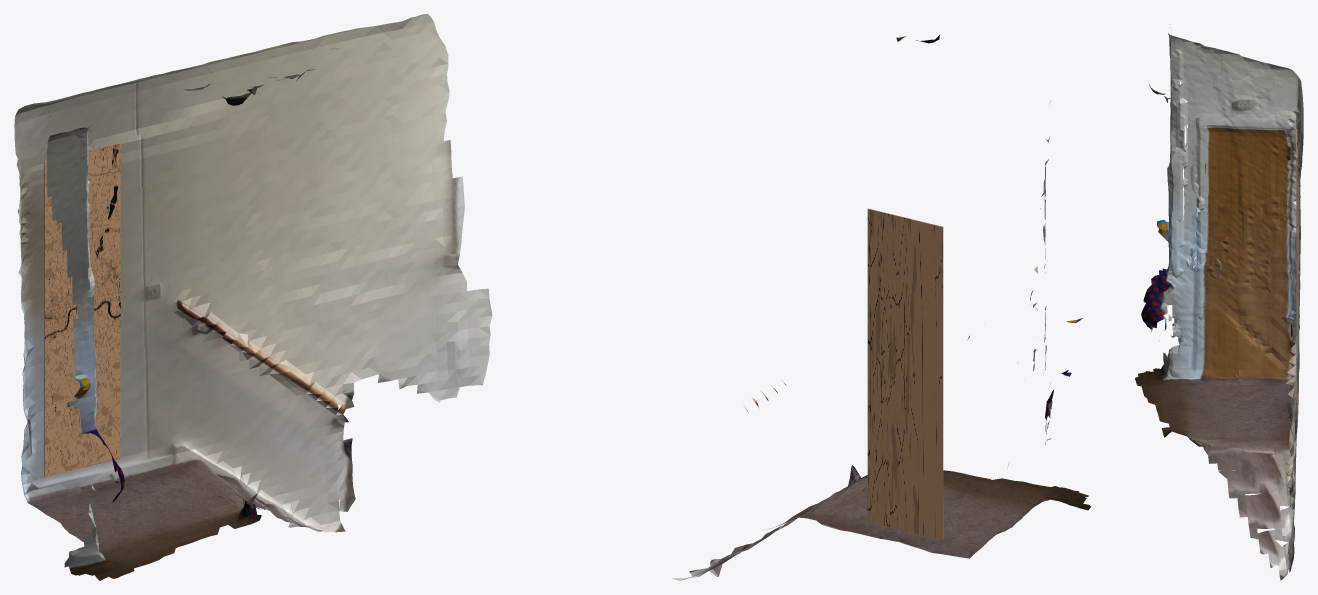
File: bigmap.glb
3 views of the same model, side by side, from view 1: azimuth 30°, elevation 25°; view 2: azimuth 150°, elevation 25°; view 3: azimuth 270°, elevation 25° (orthographic). The views are drawn at different scales.
Parts seen in each view (by area): view 1: Mesh_0, Cube; view 2: Cube, Mesh_0; view 3: Mesh_0, Cube.
Boxes of the visible parts, left/top/right/bottom form: Mesh_0: left=14, top=14, right=492, bottom=580; Cube: left=44, top=143, right=120, bottom=476; Cube: left=867, top=208, right=943, bottom=539; Mesh_0: left=671, top=35, right=1091, bottom=580; Mesh_0: left=1135, top=24, right=1303, bottom=580; Cube: left=1296, top=129, right=1297, bottom=405.
Size of the model in its own units: 3.41 by 3.49 by 1.24.
2 materials, 2 textured.
